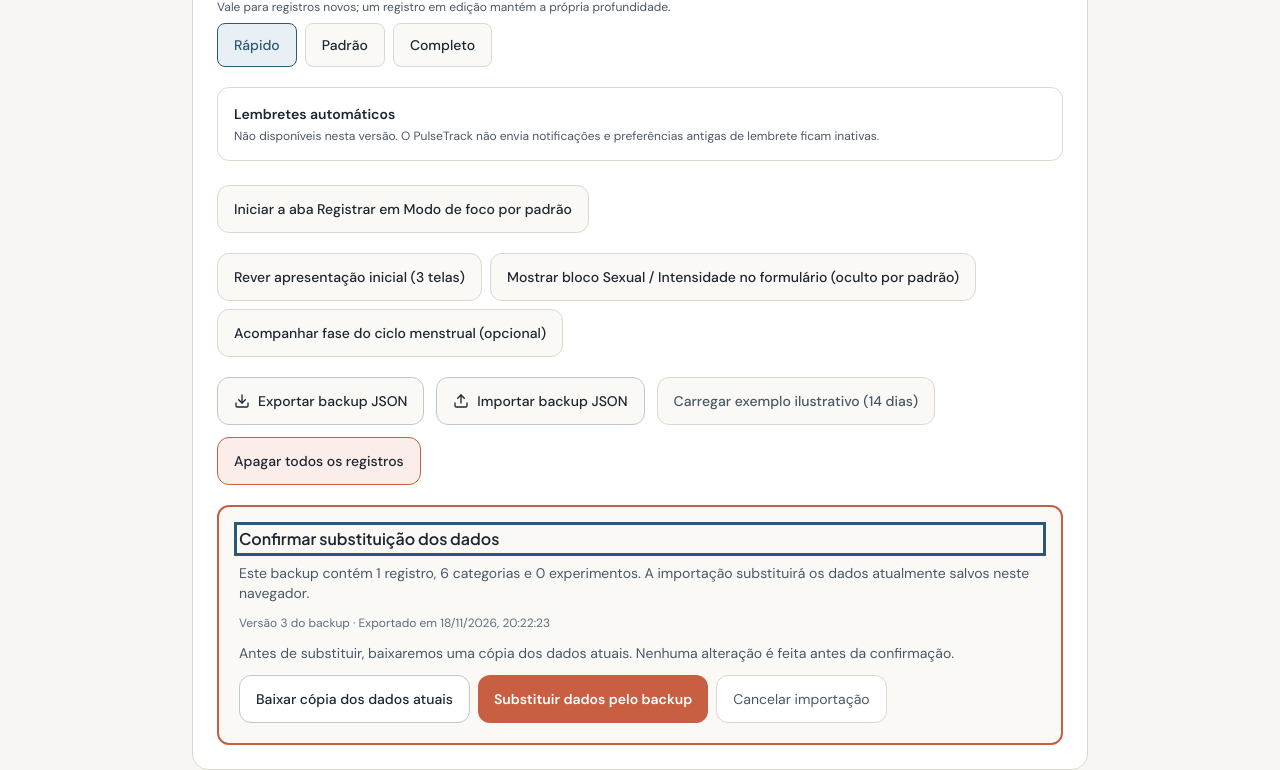
Scenario: CategoriesView — importação de backup › mantém a confirmação e avisa quando a persistência falha
Earlier steps of the test are not shown.
(page scrolled)
Step 1. Click the button "Substituir dados pelo backup" → point(593, 699), box [478,675,708,723]
(page scrolled)
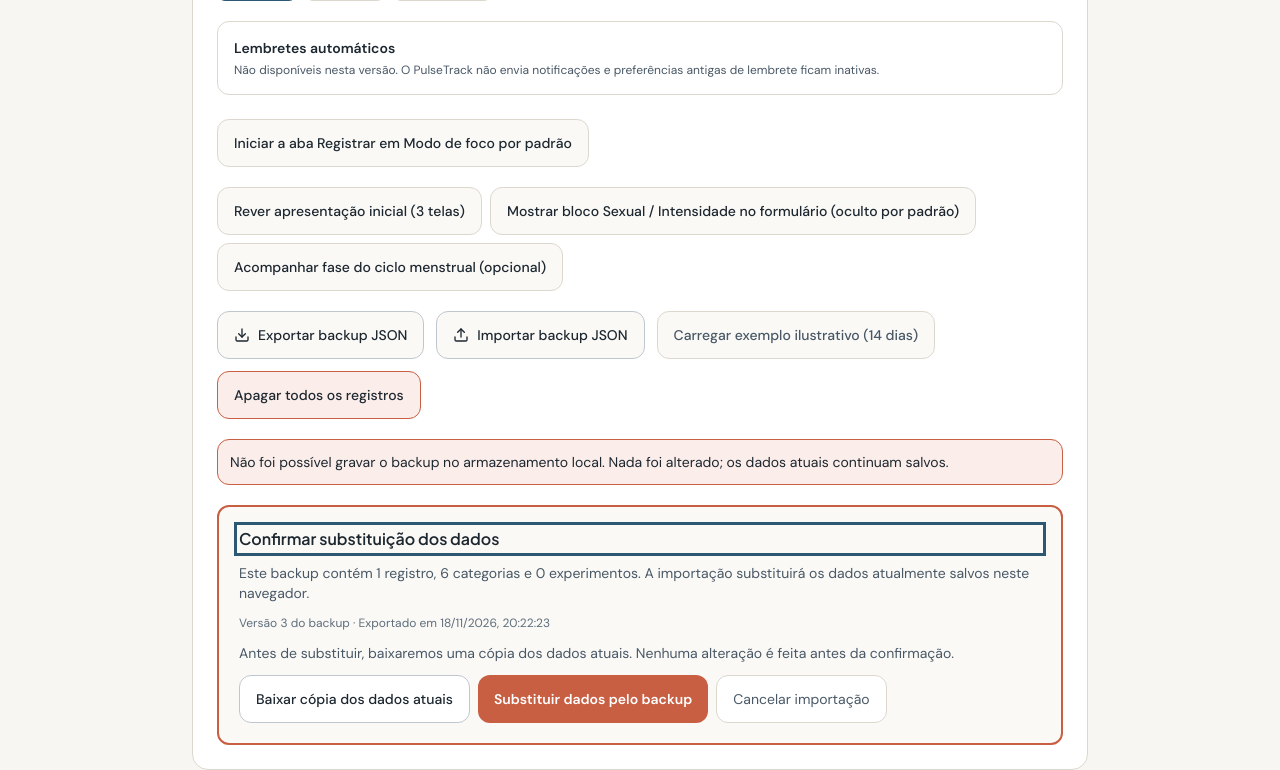
Expected: the element named "Confirmação de importação de backup" is shown, [217,505,1063,745]
Now the message shows "Nada foi alterado", box [230,453,948,471]
